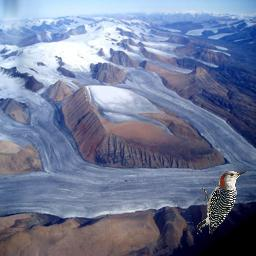Woodpecker: (197, 170, 248, 234)
